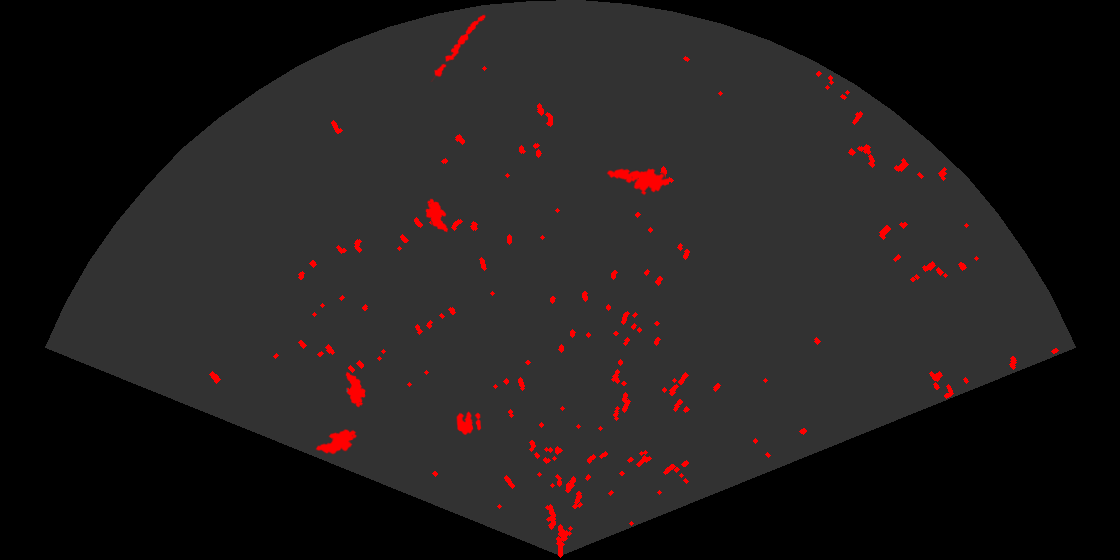AUV: (314, 428, 359, 456), (424, 197, 450, 234), (344, 370, 367, 409)
ball: (455, 410, 483, 436)
chain: (429, 13, 487, 82)
frogman: (605, 167, 669, 197)
